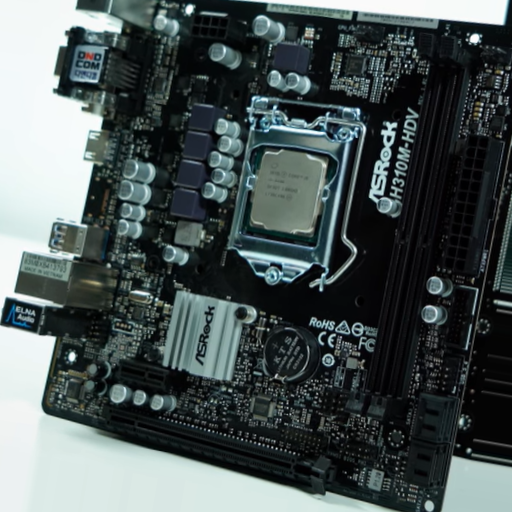CPU: (224, 118, 357, 279)
GPU: (99, 409, 330, 495)
MOTHERBOARD: (22, 2, 509, 510)
RAM: (369, 34, 464, 402)
